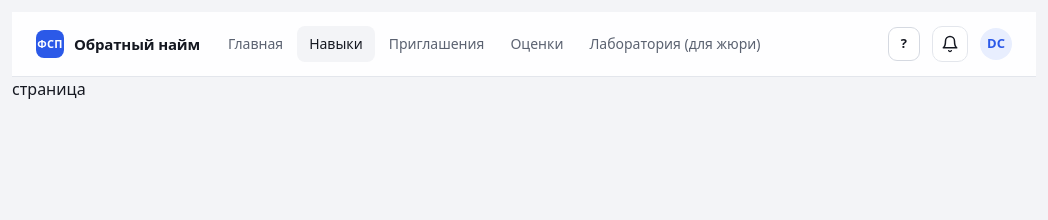
Test: Layout › shows an error when logout fails instead of failing silently
Click the button with aria-label "Меню профиля".
click(996, 44)  # box [980,28,1012,60]
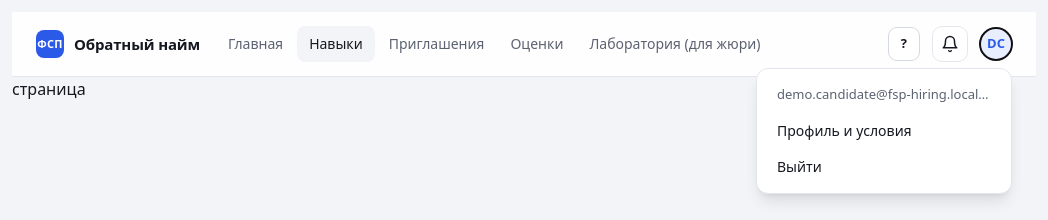
Click the button "Выйти".
click(884, 166)  # box [765,148,1003,184]
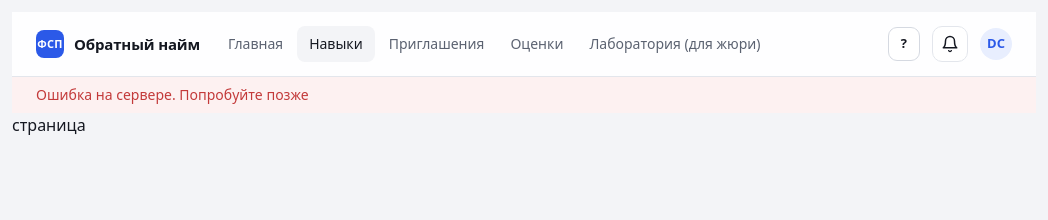
Now the message reads "Ошибка на сервере. Попробуйте позже", box [36,85,309,104]
